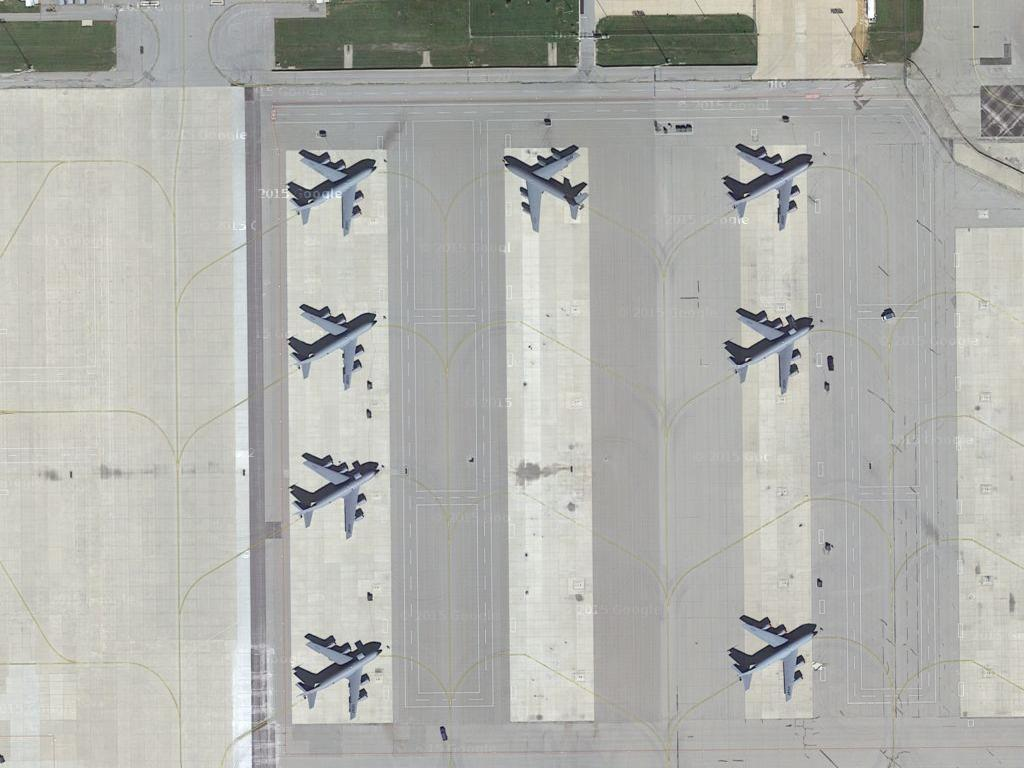KC-135: (726, 611, 823, 705), (719, 303, 817, 393), (288, 452, 387, 540), (725, 141, 822, 229), (283, 150, 381, 237), (290, 631, 381, 721), (501, 145, 591, 236), (289, 303, 378, 394)
